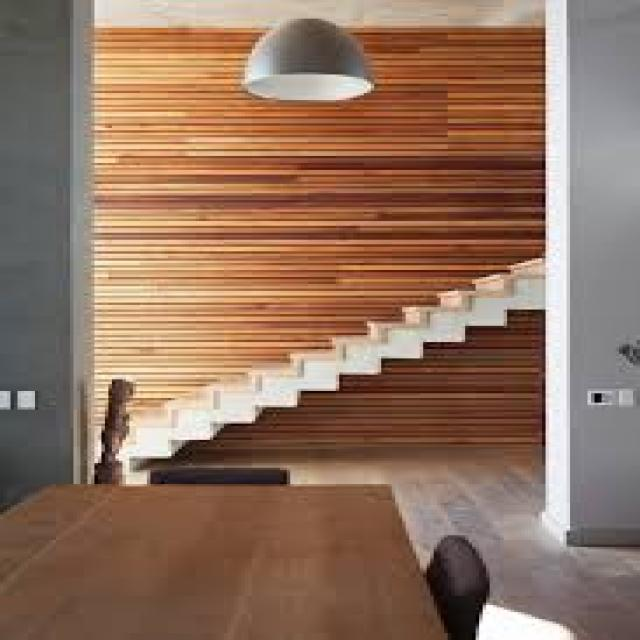Stair Up: (123, 245, 546, 471)
